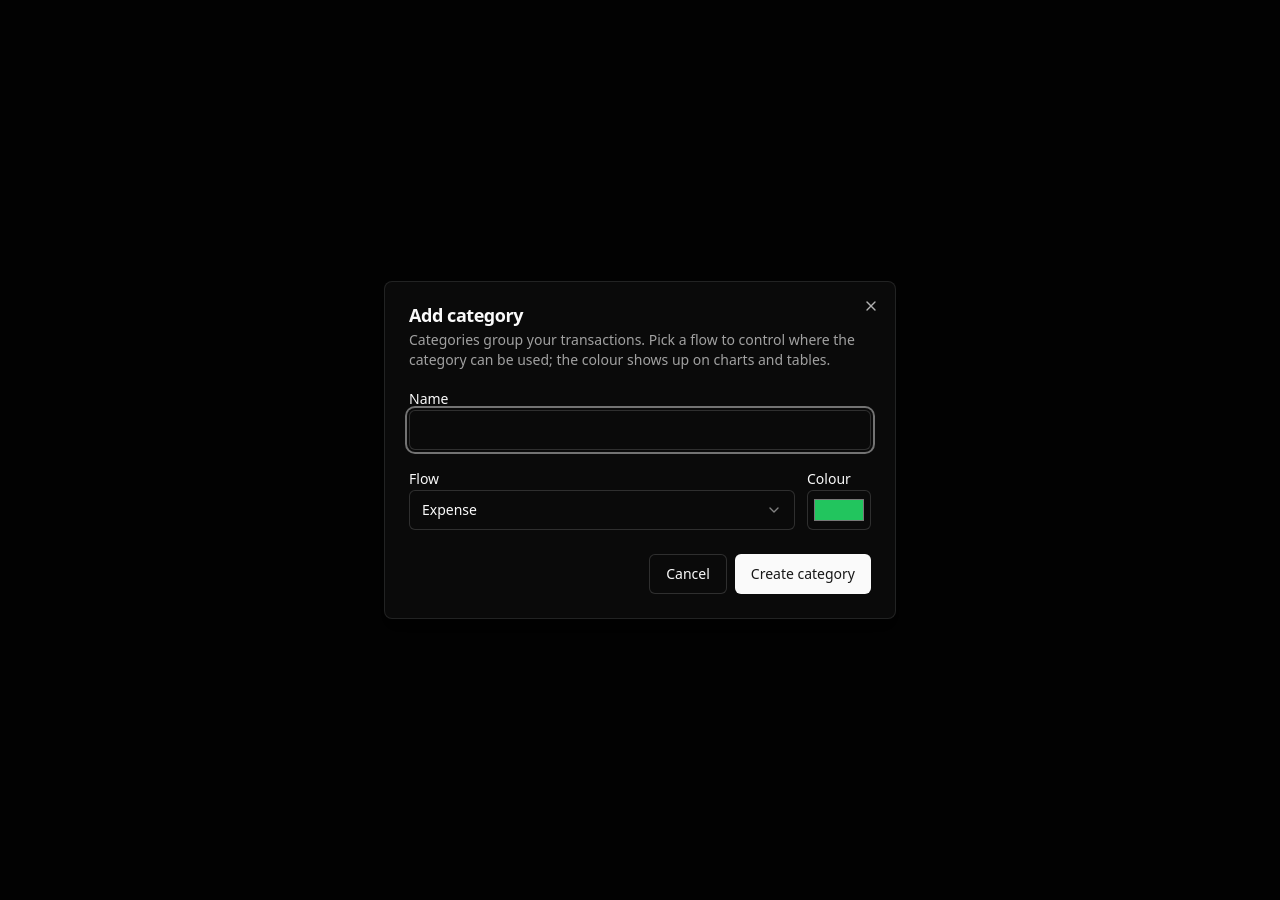
Scenario: CreateCategoryDialog (controlled) › validates a blank name
Click the button with test id "category-submit-button" at (803, 574), box [735, 554, 871, 594]
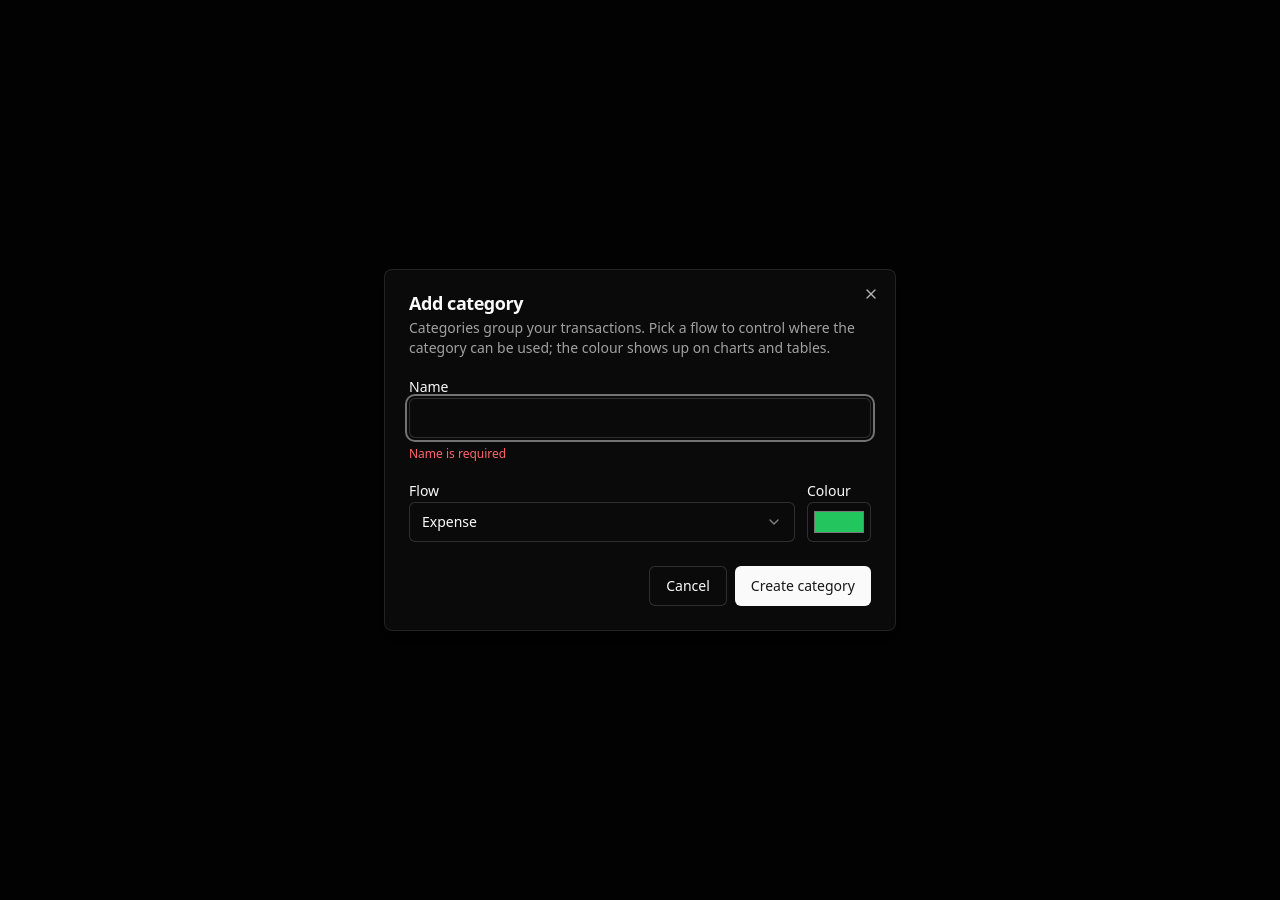
expect the text "Name is required" is shown: met, box [409, 445, 506, 462]
